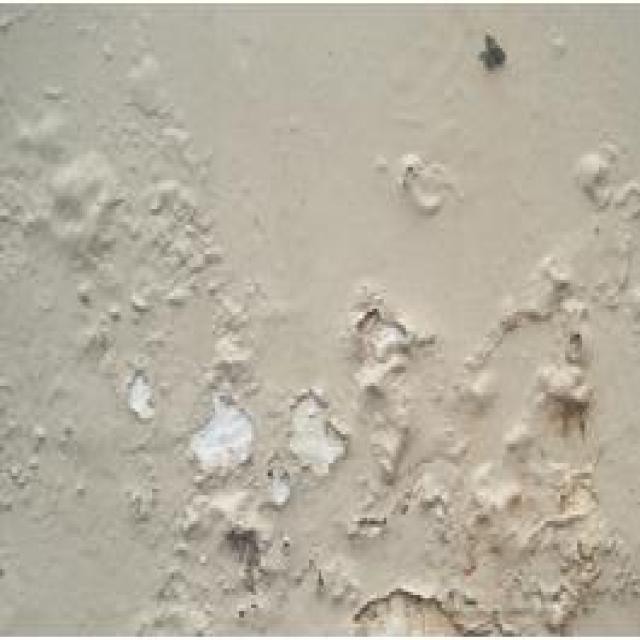Water_Leakage: (6, 31, 632, 640)
